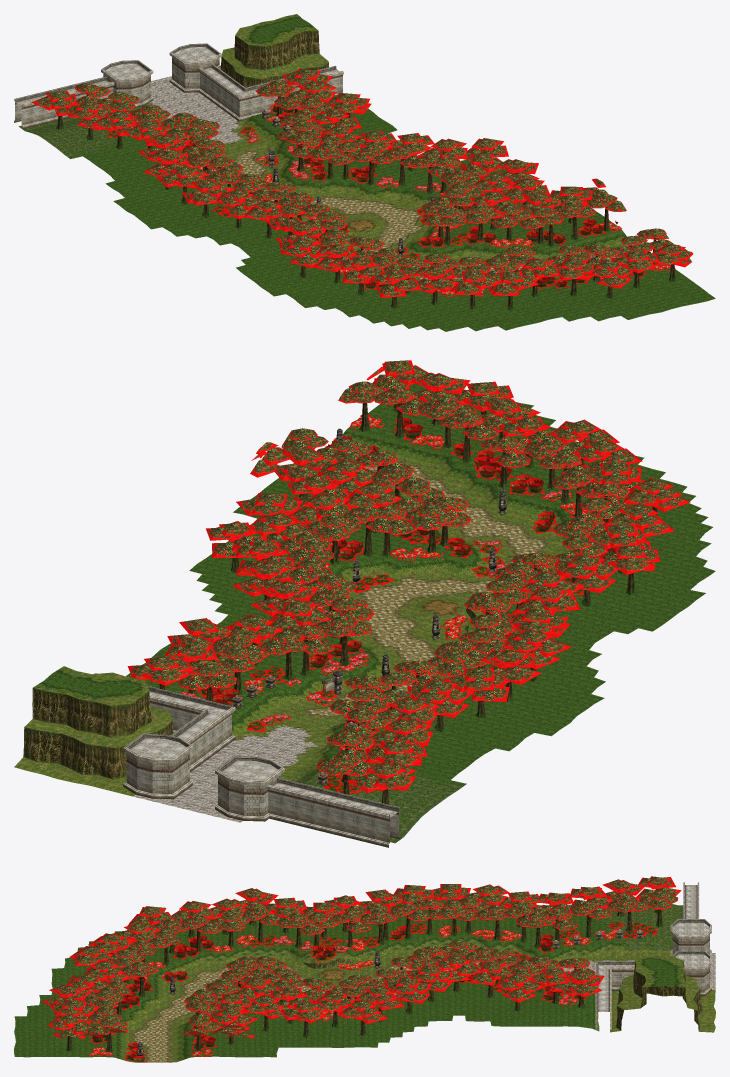
The model's file is RitterRoadway1.obj.
The picture shows the model from 3 angles, top to bottom: view 1: azimuth 30°, elevation 25°; view 2: azimuth 150°, elevation 25°; view 3: azimuth 270°, elevation 25°; orthographic projection. The views are drawn at different scales.
Parts seen in each view (by area): view 1: Object.000; view 2: Object.000; view 3: Object.000.
Part boxes in pixels (box(x1,y1,x2,y2)): Object.000: box(14, 14, 715, 331); Object.000: box(14, 360, 715, 847); Object.000: box(14, 876, 715, 1062).
Bounding box in the file's own units: 61.66 × 8.28 × 112.
14 materials, 14 textured.
